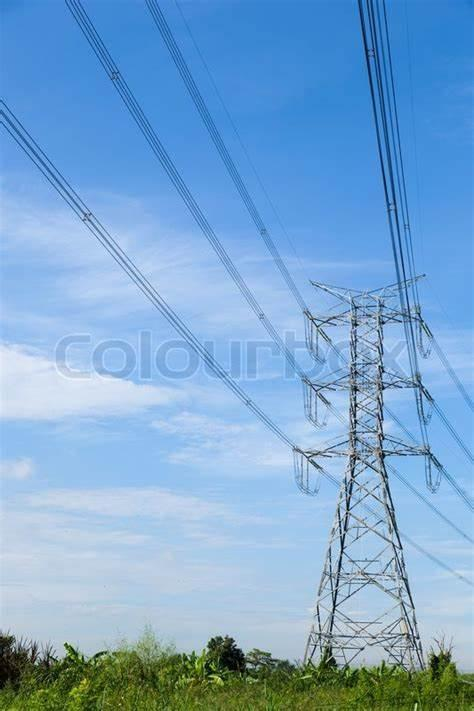power_tower: (296, 272, 444, 696)
